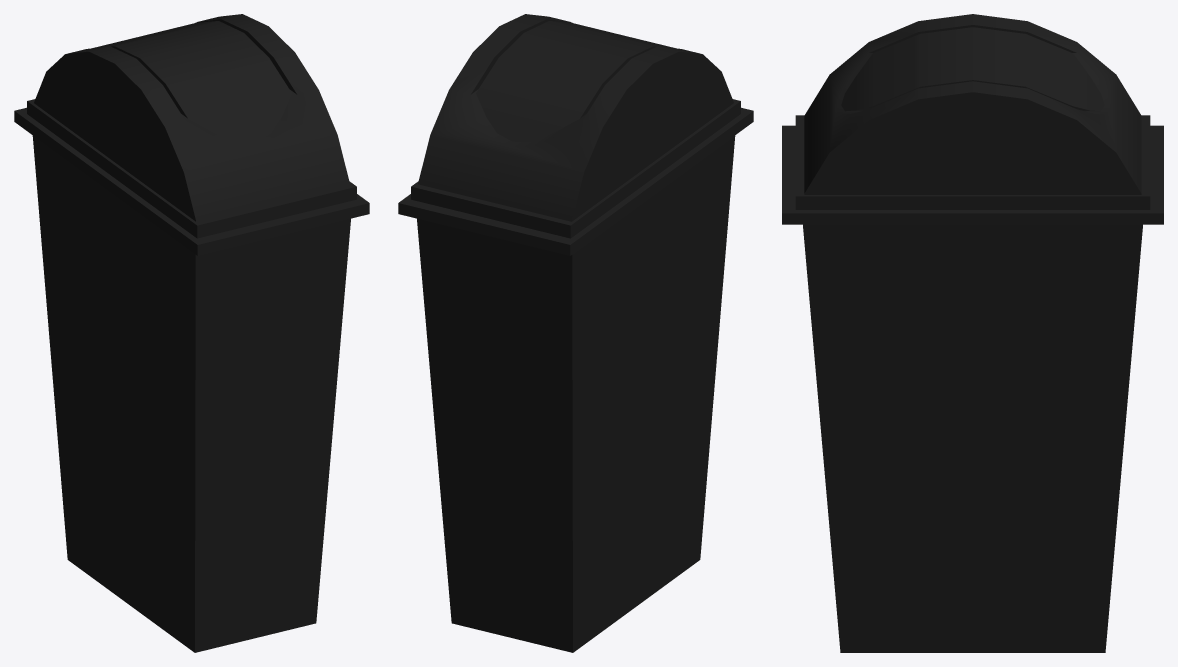
The model's file is LC_3194_Trash_can_E_LOD2.FBX.
3 renders of one model, left to right at view 1: azimuth 30°, elevation 25°; view 2: azimuth 150°, elevation 25°; view 3: azimuth 270°, elevation 25°, orthographic. The views are drawn at different scales.
Visible parts, largest first — view 1: LC_3194_Trash_can_E_LOD2; view 2: LC_3194_Trash_can_E_LOD2; view 3: LC_3194_Trash_can_E_LOD2.
Part boxes in pixels (x1=…): LC_3194_Trash_can_E_LOD2: x1=14, y1=14, x2=369, y2=652; LC_3194_Trash_can_E_LOD2: x1=398, y1=14, x2=753, y2=652; LC_3194_Trash_can_E_LOD2: x1=782, y1=14, x2=1163, y2=652.
Bounding box in the file's own units: 25.51 × 77.44 × 47.09.
1 material, 1 textured.
